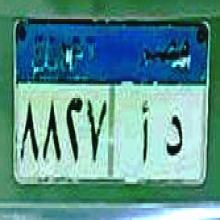2: (64, 96, 82, 165)
7: (86, 94, 107, 164)
8: (18, 97, 39, 168), (42, 95, 62, 165)
alif: (138, 99, 154, 173)
daal: (163, 110, 186, 164)
